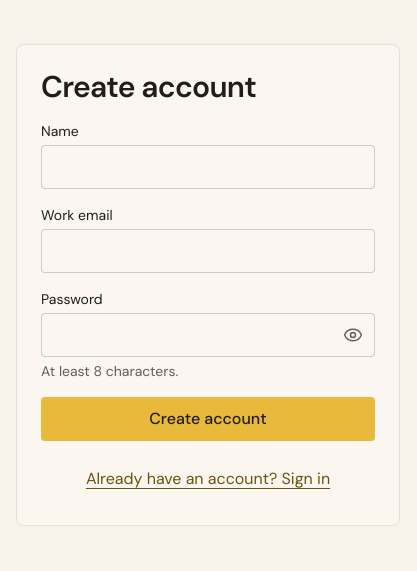
Scenario: SignUpPage › a request that throws (offline) clears the button and names the connection
Type "Van" into the field labelled "Name" at (208, 167), box 41,145 -> 375,189
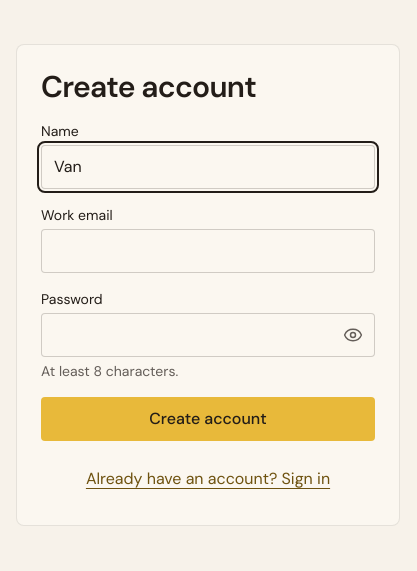
Type "van@example.com" into the field labelled "Work email" at (208, 251), box 41,229 -> 375,273
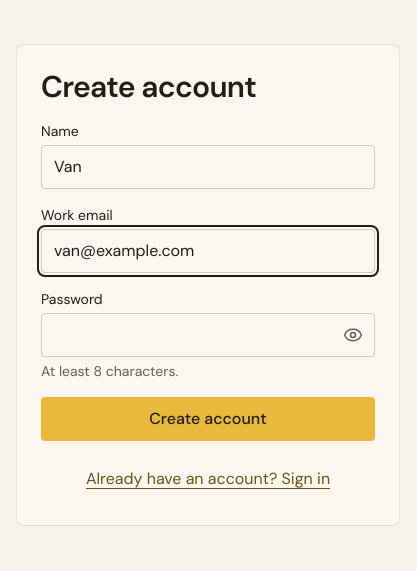
Type "correct-horse" into the password field labelled "Password" at (208, 335), box 41,313 -> 375,357
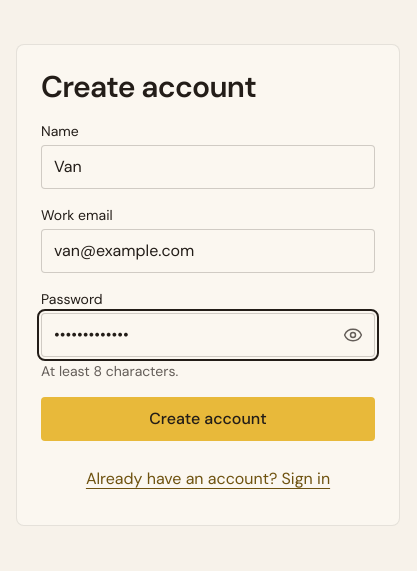
Click the button "Create account" at (208, 419), box 41,397 -> 375,441
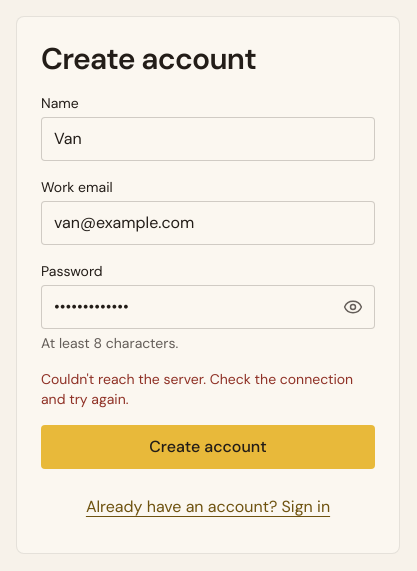
Expected: the button "Create account" is enabled, 41,425 -> 375,469
Now the message reads "Couldn't reach the server. Check the connection and try again.", box 41,370 -> 353,408
